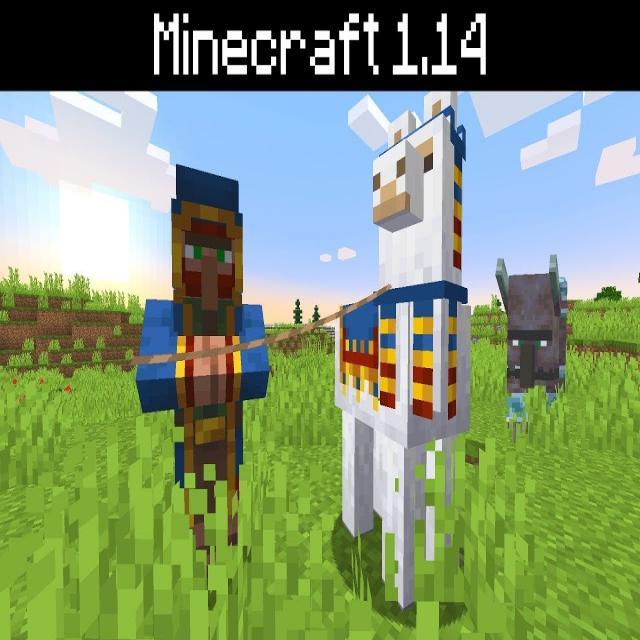Trader Lama: (335, 90, 471, 610)
